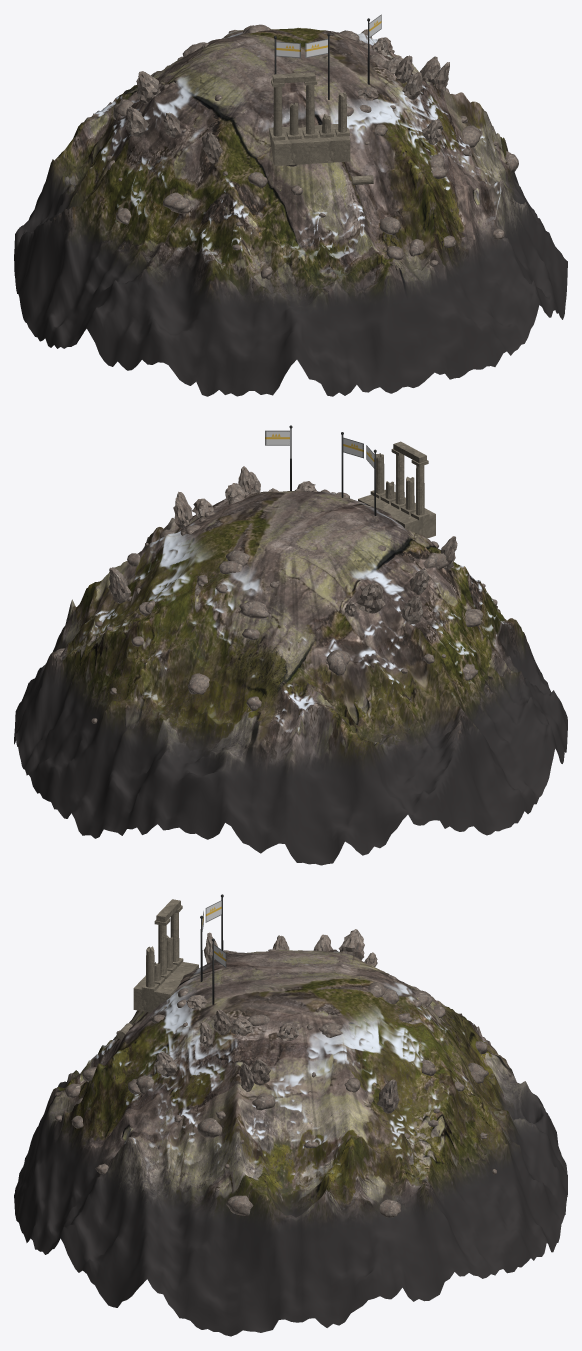
The model's file is Mountain.glb.
The picture shows the model from 3 angles, top to bottom: view 1: azimuth 30°, elevation 25°; view 2: azimuth 150°, elevation 25°; view 3: azimuth 270°, elevation 25°; orthographic projection.
Parts seen in each view (by area): view 1: Mountain_LOD0, Ruins, Rocks, Crags, Banners; view 2: Mountain_LOD0, Rocks, Crags, Ruins, Banners; view 3: Mountain_LOD0, Rocks, Crags, Ruins.
Boxes of the visible parts, box(x1,y1,x2,y2) form: Mountain_LOD0: box(14, 27, 567, 396); Ruins: box(269, 72, 373, 184); Rocks: box(106, 24, 518, 279); Crags: box(125, 29, 449, 163); Banners: box(276, 14, 381, 57); Mountain_LOD0: box(14, 491, 567, 865); Rocks: box(55, 489, 497, 723); Crags: box(108, 466, 457, 624); Ruins: box(358, 441, 435, 538); Banners: box(265, 430, 374, 468); Mountain_LOD0: box(14, 949, 567, 1336); Rocks: box(55, 949, 496, 1217); Crags: box(154, 929, 399, 1113); Ruins: box(117, 899, 198, 1039).
Size of what is drawn, in the model's own units: 21 by 12.69 by 21.
Materials: 5 (5 with a texture image).
